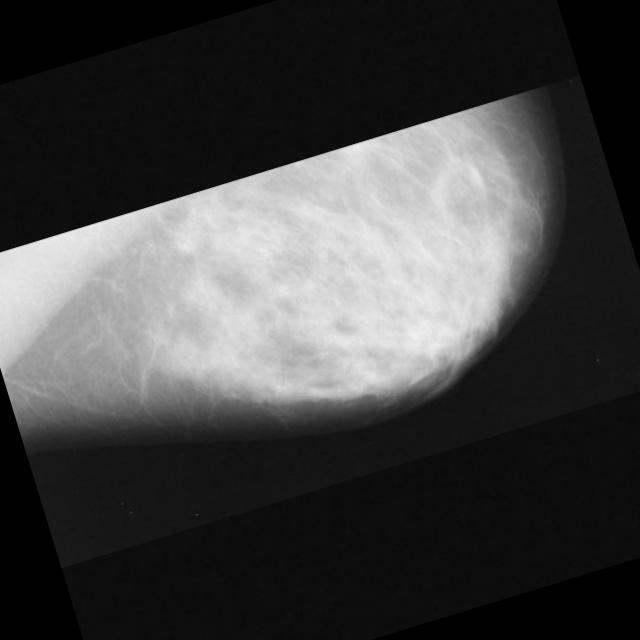MISC: (154, 202, 220, 270)
